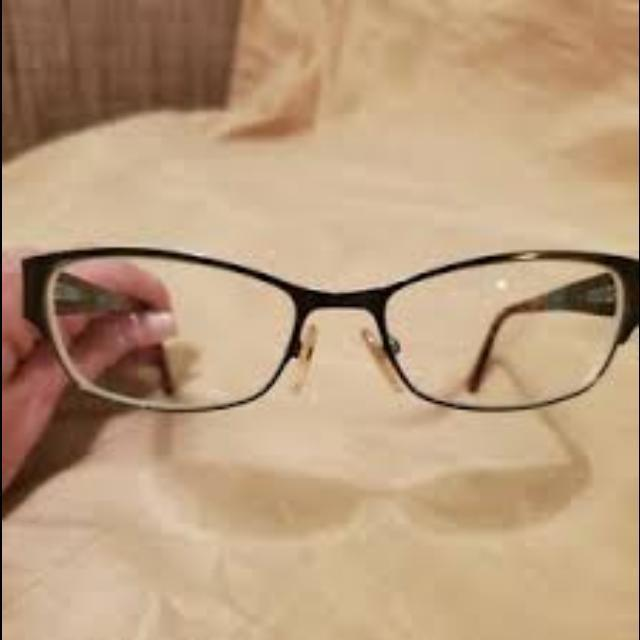glasses: (16, 244, 638, 416)
